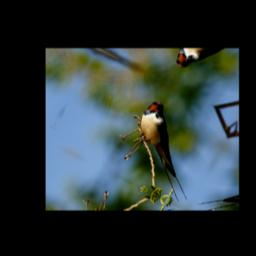Swallow: (112, 98, 224, 205)
